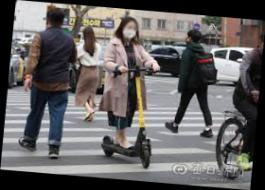nonhelmet: (88, 14, 173, 169)
